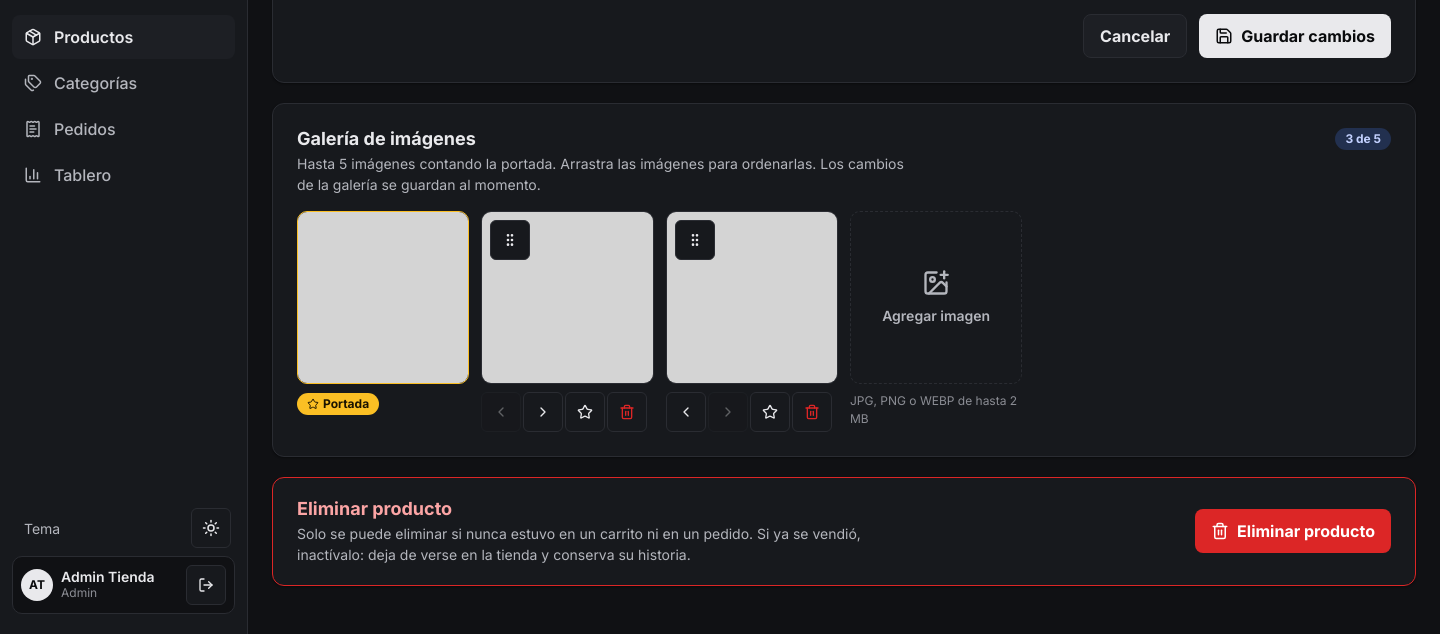
Test case: Galería en la edición › hacer portada intercambia las imágenes
(page scrolled)
Click the button named "Hacer portada la imagen 1".
click(585, 412)  # box [565,392,605,432]
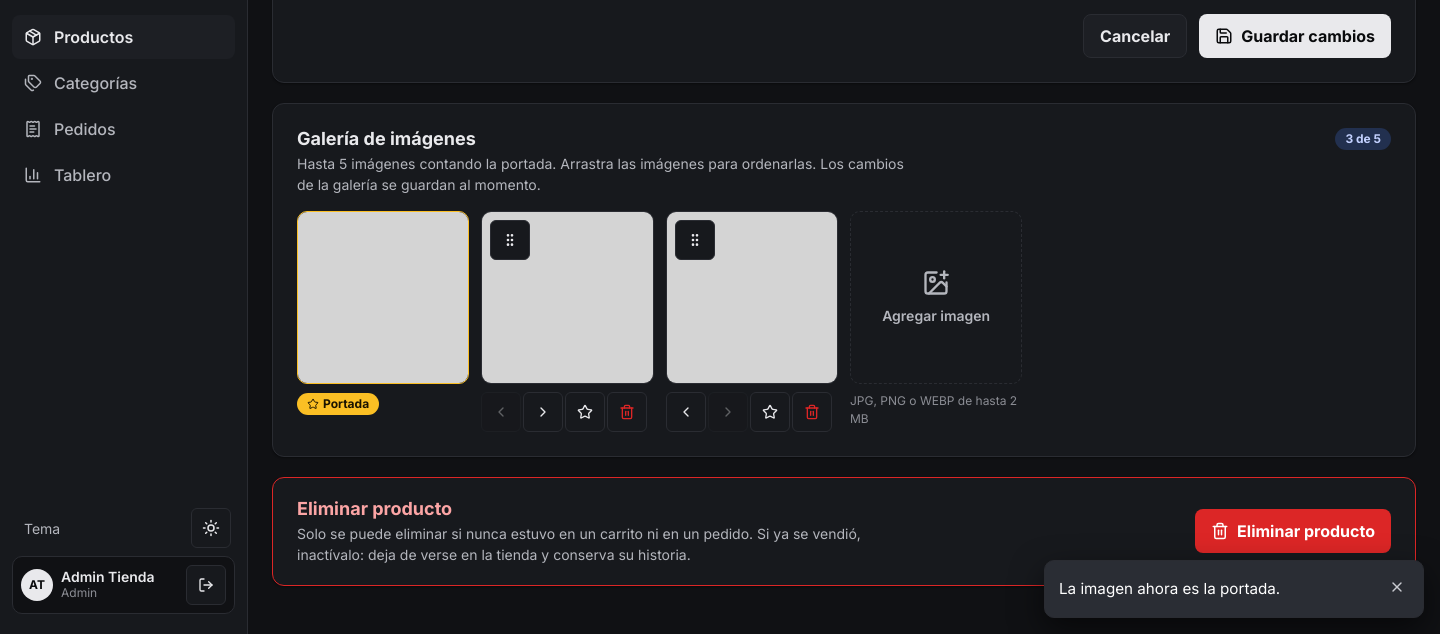
expect the text "La imagen ahora es la portada." is shown: met, box [1059,579,1280,598]
